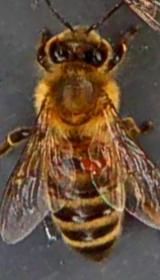varroa_mite: (78, 150, 110, 179)
